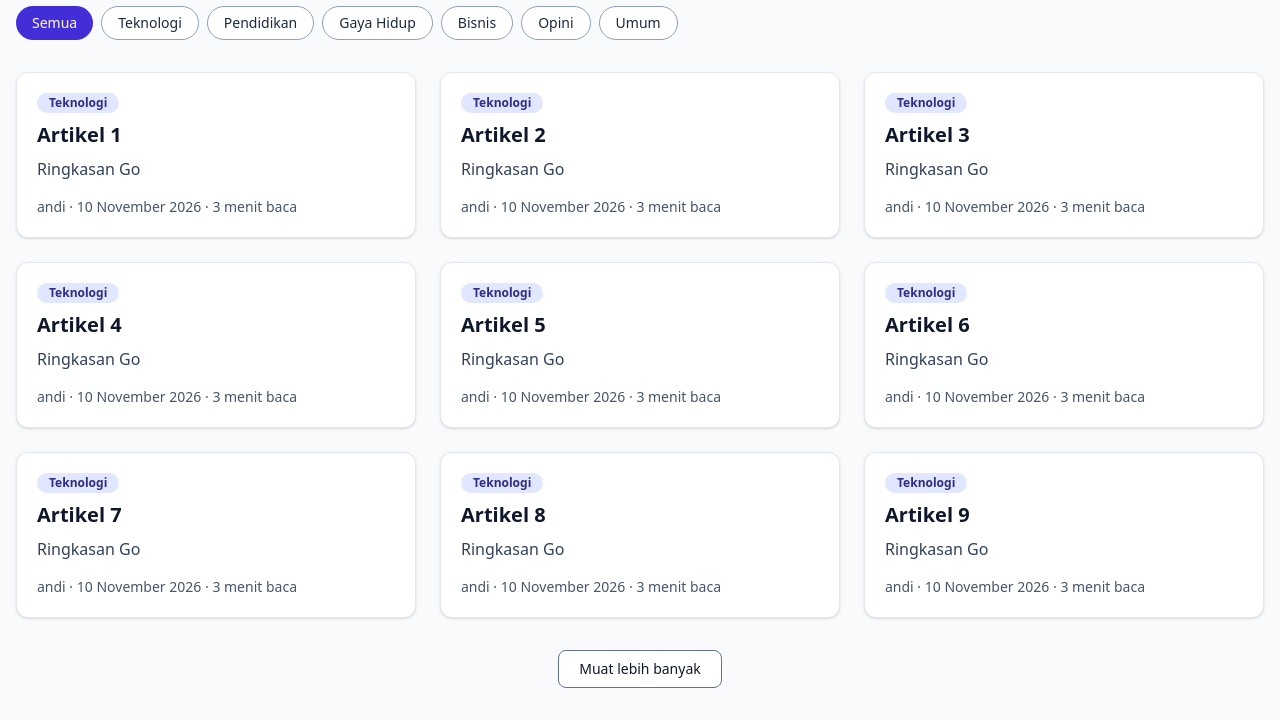
it: PublicArticleList › membatasi 9 artikel per halaman dan memuat lebih banyak
This screenshot has width=1280, height=720.
(page scrolled)
Expected: the heading "Artikel 1" is shown, [37,121,122,148]
Click the button "Muat lebih banyak". click: (640, 669)
box: [558,650,722,688]
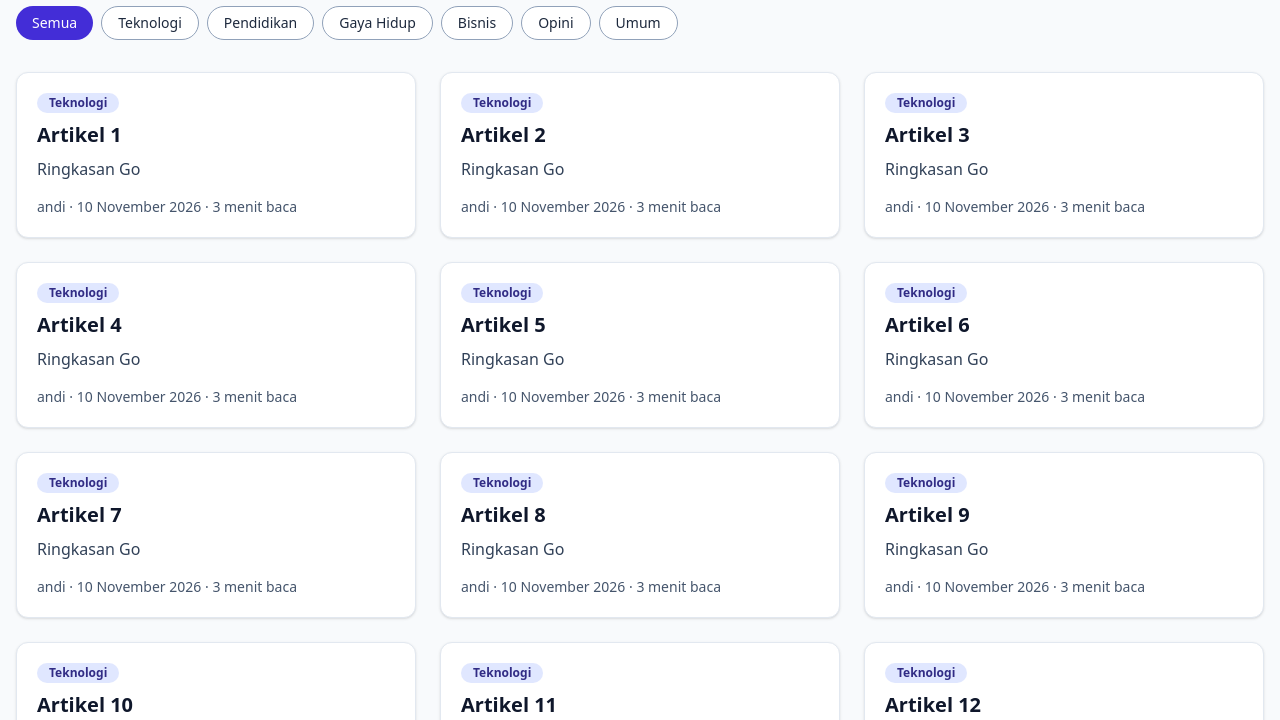
Expected: the button "Muat lebih banyak" is gone
